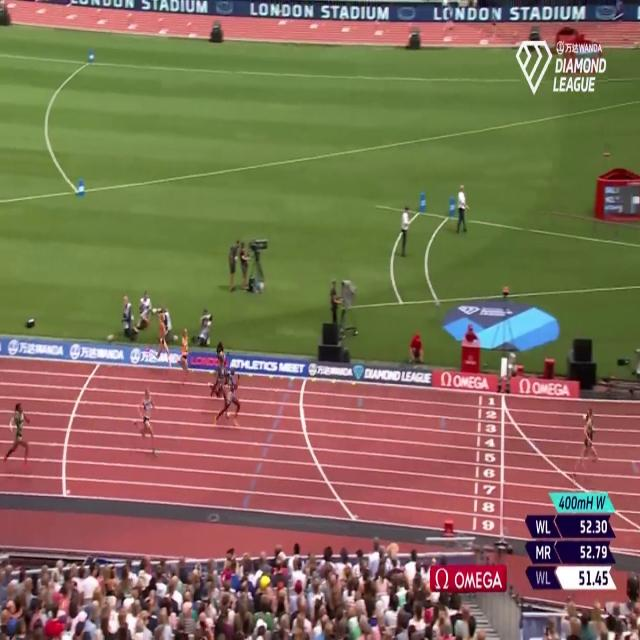athlete: (131, 374, 160, 466), (4, 395, 35, 480), (569, 403, 601, 480), (221, 368, 246, 434), (150, 306, 172, 372), (176, 320, 192, 383), (212, 344, 230, 396)
